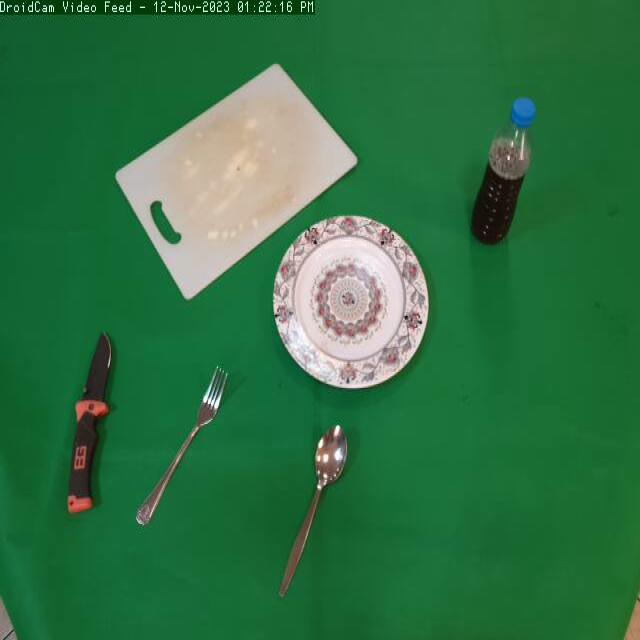cutting board: (114, 60, 368, 306)
fork: (131, 354, 234, 533)
fullbottle: (463, 88, 542, 260)
knife: (60, 321, 127, 521)
plate: (266, 207, 436, 399)
spoon: (274, 420, 353, 600)
